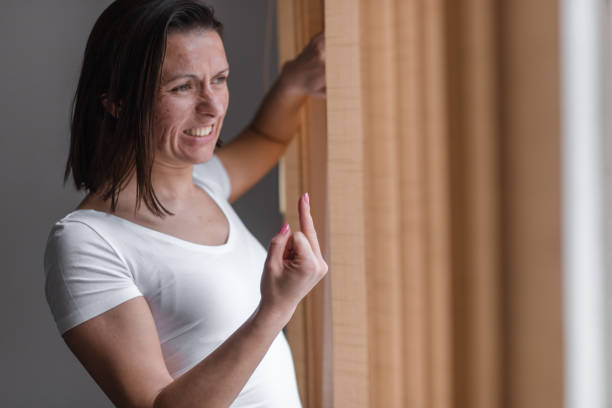insulting_gesture: (259, 188, 330, 318)
